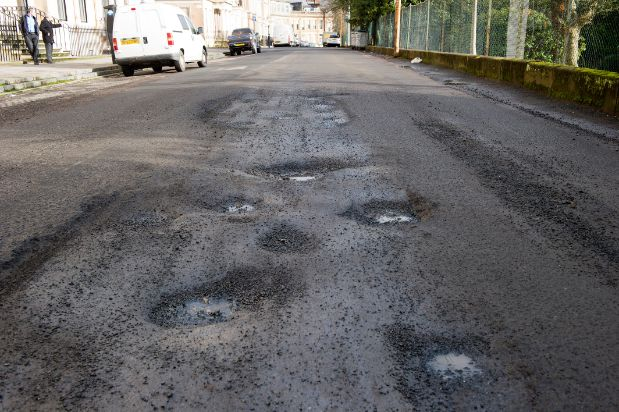pothole: (386, 315, 503, 412), (149, 264, 286, 329), (343, 193, 440, 230)
